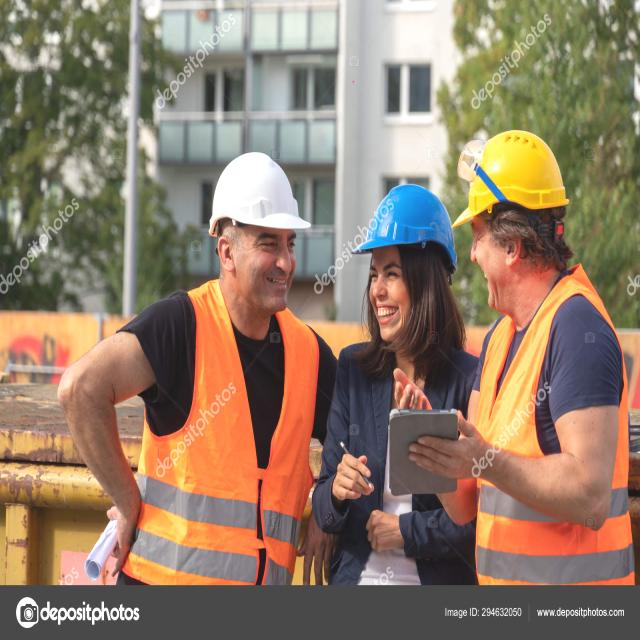helmet: (450, 126, 580, 244), (346, 174, 459, 272), (205, 142, 313, 238)
no-goggles: (219, 225, 309, 263), (363, 256, 439, 294), (466, 218, 500, 255)
no-vest: (321, 333, 477, 569)
vest: (479, 299, 640, 582), (189, 308, 311, 582)
